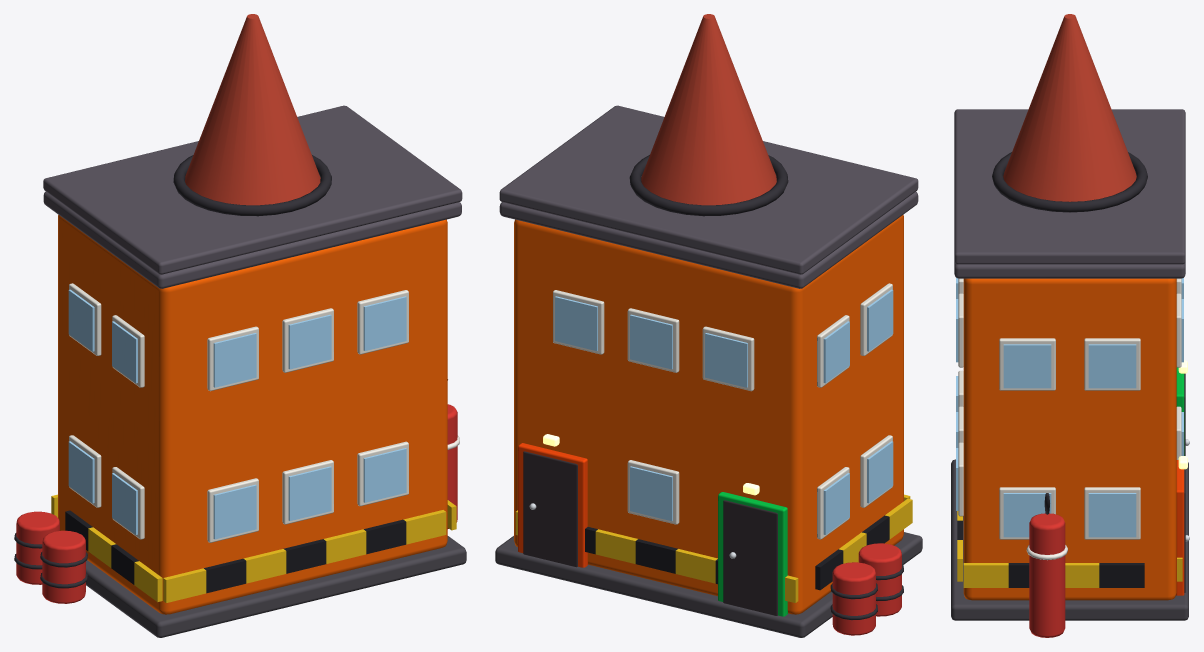
Rendered from building_blasting_academy_t2.glb.
3 renders of one model, left to right at view 1: azimuth 30°, elevation 25°; view 2: azimuth 150°, elevation 25°; view 3: azimuth 270°, elevation 25°, orthographic.
Parts seen in each view (by area): view 1: Walls, Roof.Parapet, BoomCone, Plinth, Roof.Slab, Drum2.Drum, BoomRing, WinB0.Pane, WinB1.Pane.001, WinB0.Pane.001, WinB1.Pane, WinB0.Pane.002 (+27 smaller); view 2: Walls, Roof.Parapet, BoomCone, Plinth, Roof.Slab, Entry.Leaf, Exit.Leaf, Drum1.Drum, BoomRing, Entry.Frame, Exit.Frame, Win1.Pane.001 (+21 smaller); view 3: Walls, Roof.Parapet, BoomCone, Plinth, Dynamite, Roof.Slab, BoomRing, WinR0.Pane.001, WinR1.Pane, WinR1.Pane.001, WinR0.Pane, Hazard.Seg.018 (+12 smaller).
Boxes of the visible parts, bbox=[...] form: Walls: bbox=[58, 215, 447, 614]; Roof.Parapet: bbox=[43, 105, 462, 274]; BoomCone: bbox=[185, 14, 320, 205]; Plinth: bbox=[86, 536, 466, 637]; Roof.Slab: bbox=[43, 191, 461, 288]; Drum2.Drum: bbox=[42, 530, 85, 603]; BoomRing: bbox=[173, 155, 331, 216]; WinB0.Pane: bbox=[213, 484, 256, 539]; WinB1.Pane.001: bbox=[288, 314, 331, 369]; WinB0.Pane.001: bbox=[288, 466, 331, 520]; WinB1.Pane: bbox=[213, 333, 256, 387]; WinB0.Pane.002: bbox=[363, 448, 406, 502]; Walls: bbox=[514, 215, 903, 614]; Roof.Parapet: bbox=[499, 105, 918, 274]; BoomCone: bbox=[641, 14, 776, 205]; Plinth: bbox=[495, 532, 922, 637]; Roof.Slab: bbox=[499, 191, 918, 288]; Entry.Leaf: bbox=[723, 500, 777, 615]; Exit.Leaf: bbox=[523, 451, 577, 567]; Drum1.Drum: bbox=[832, 562, 875, 635]; BoomRing: bbox=[629, 155, 788, 216]; Entry.Frame: bbox=[718, 492, 787, 616]; Exit.Frame: bbox=[518, 443, 587, 567]; Win1.Pane.001: bbox=[630, 314, 672, 369]; Walls: bbox=[963, 278, 1176, 600]; Roof.Parapet: bbox=[954, 109, 1185, 264]; BoomCone: bbox=[1003, 14, 1136, 201]; Plinth: bbox=[951, 459, 1188, 620]; Dynamite: bbox=[1029, 513, 1065, 637]; Roof.Slab: bbox=[954, 261, 1185, 278]; BoomRing: bbox=[992, 152, 1147, 212]; WinR0.Pane.001: bbox=[1088, 493, 1136, 537]; WinR1.Pane: bbox=[1003, 344, 1051, 388]; WinR1.Pane.001: bbox=[1088, 344, 1136, 388]; WinR0.Pane: bbox=[1003, 493, 1051, 537]; Hazard.Seg.018: bbox=[963, 563, 1008, 587].
Bounding box in the file's own units: 3.94 × 5.18 × 2.11.
